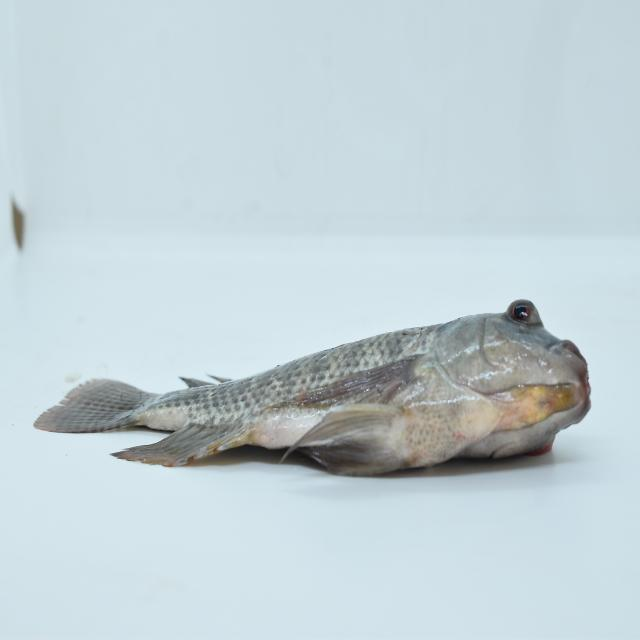Columnaris Disease: (21, 294, 621, 485)
